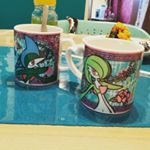cups: (65, 36, 147, 118), (11, 21, 76, 90)
